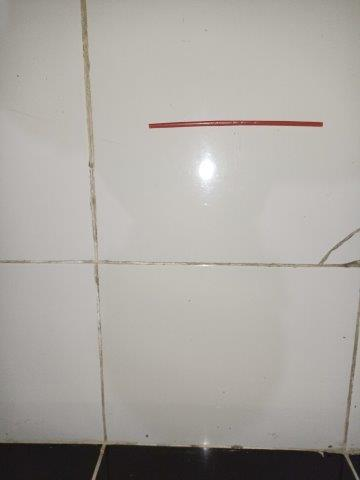sedotan: (148, 120, 324, 128)
